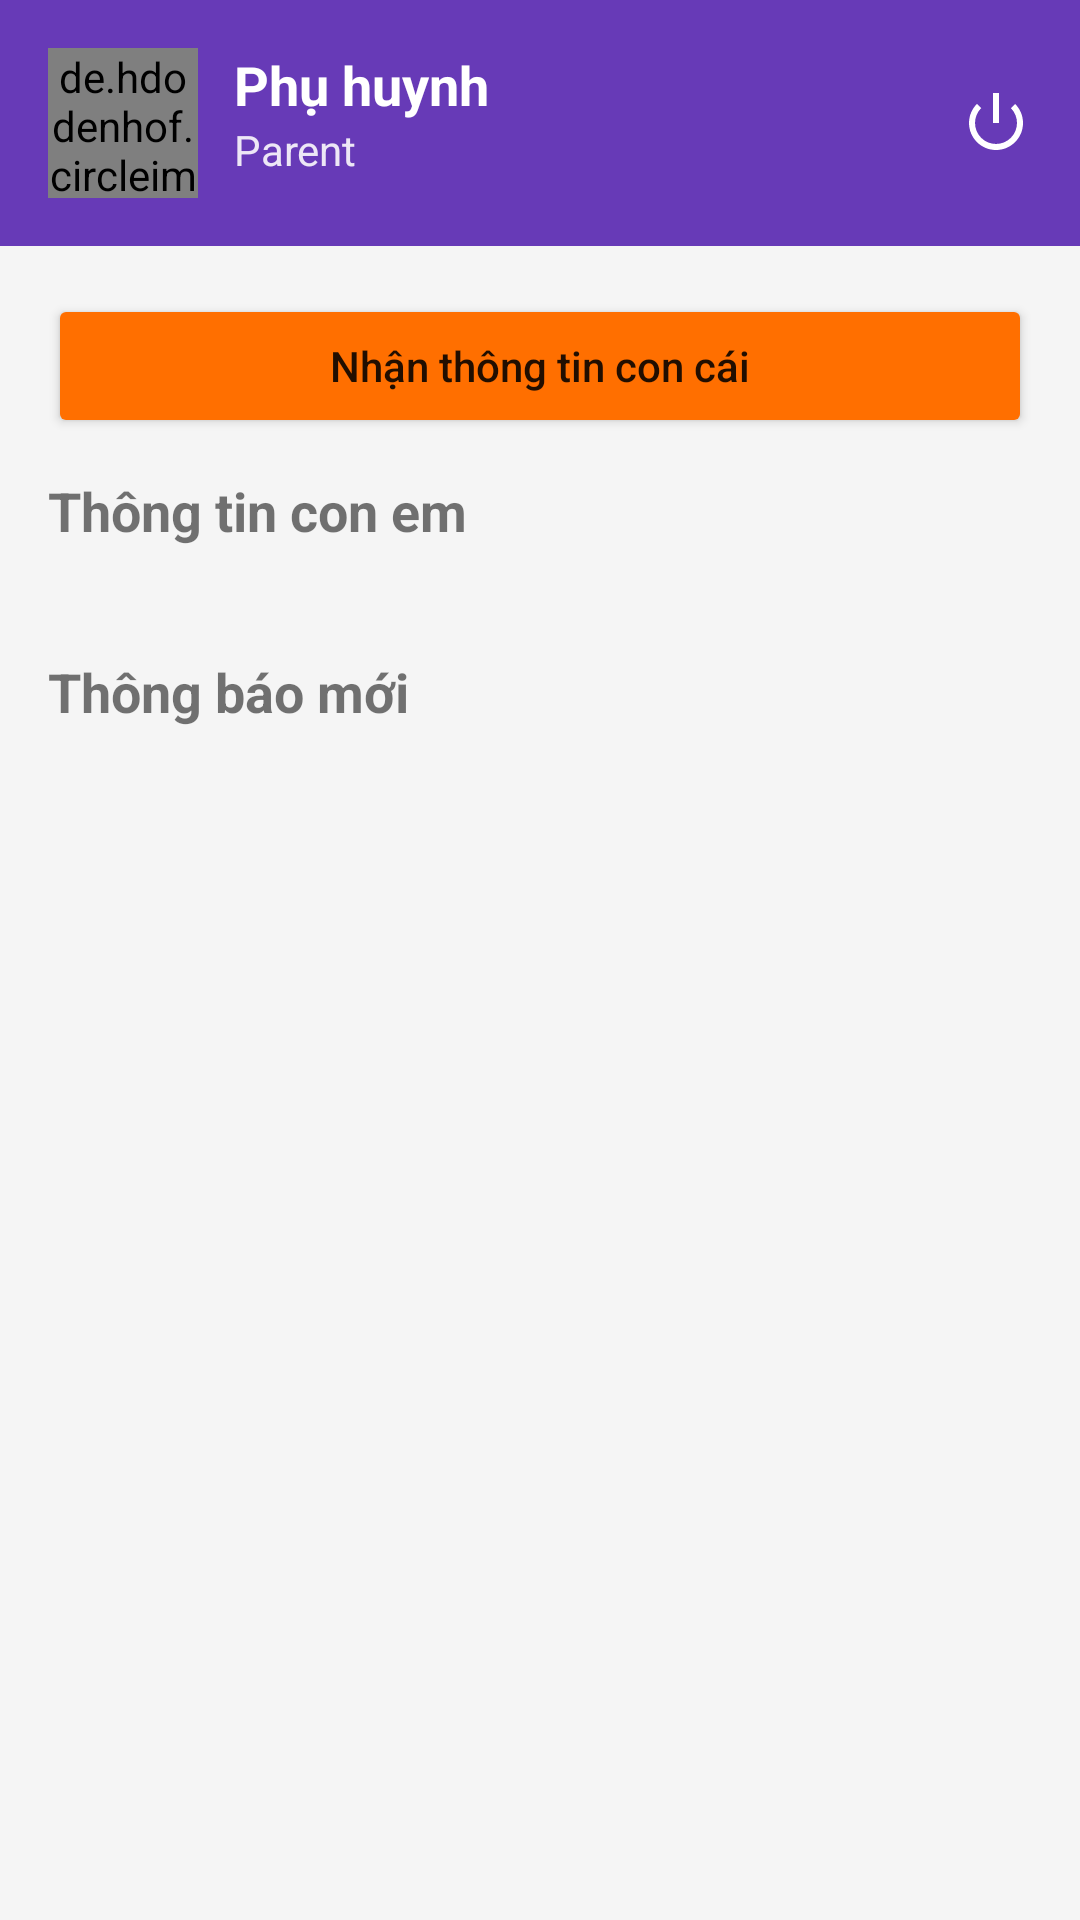

Screen size 1080*1920. Icon name, then its center in pixels as (x=x, y=y):
lock power off: (x=996, y=121)
